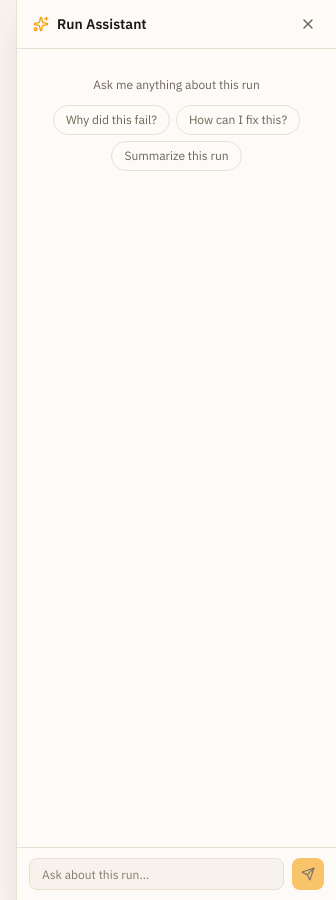
AiChatSidebar (advisor-backed) › falls back to local heuristics when the endpoint fails
Type "Why did this fail?" into the field with placeholder "Ask about this run..." at [156, 874], box [29, 858, 284, 890]
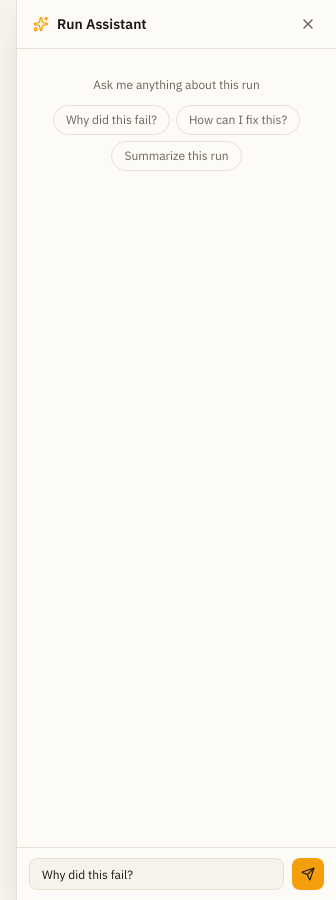
Submit the form with placeholder "ask about this run", box [17, 847, 335, 899]
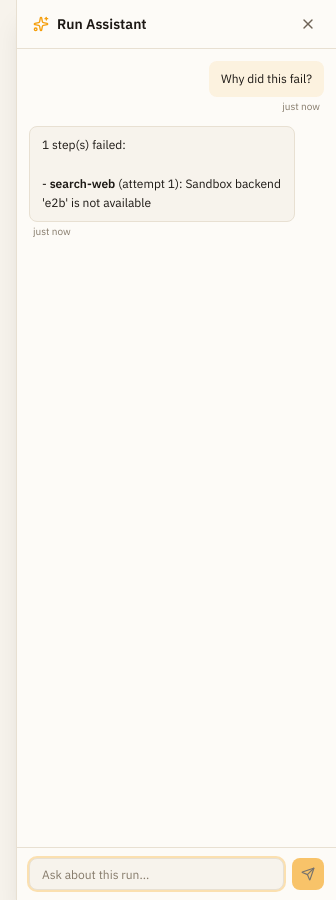
Check: the text "search-web" is shown, box [50, 176, 115, 190]
Check: the text "(attempt 1): Sandbox backend 'e2b' is not available" is shown, box [42, 176, 281, 210]
